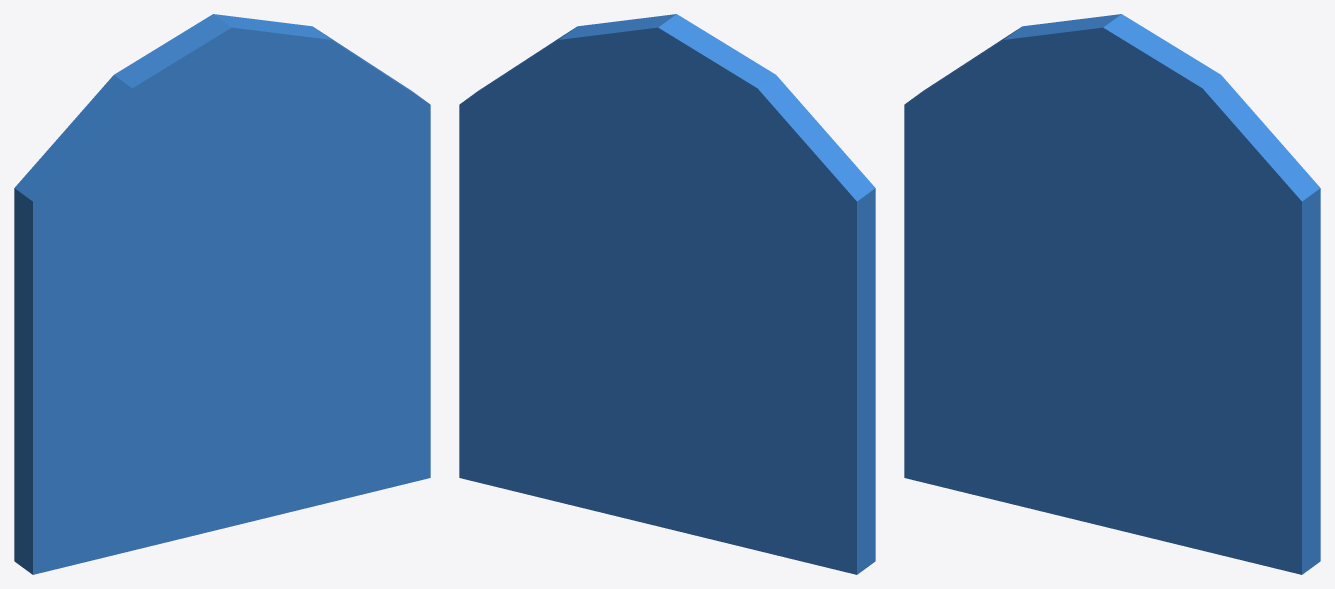
Rendered from Collision_WindowShutters_Wide_Round_Closed.fbx.
3 views of the same model, side by side, from view 1: azimuth 30°, elevation 25°; view 2: azimuth 150°, elevation 25°; view 3: azimuth 330°, elevation 25° (orthographic).
Visible parts, largest first — view 1: UCX_WindowShutters_Wide_Round_Closed_1; view 2: UCX_WindowShutters_Wide_Round_Closed_1; view 3: UCX_WindowShutters_Wide_Round_Closed_1.
Part boxes in pixels (x1,y1,x2,y2): UCX_WindowShutters_Wide_Round_Closed_1: (14, 14, 430, 574); UCX_WindowShutters_Wide_Round_Closed_1: (459, 14, 875, 574); UCX_WindowShutters_Wide_Round_Closed_1: (904, 14, 1320, 574).
Size of the model in its own units: 143 by 171 by 11.57.
